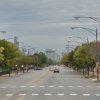Crosswalk: (10, 81, 88, 100)
